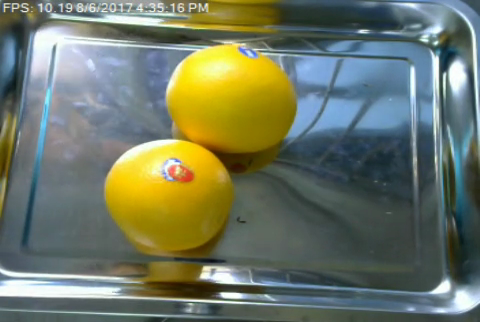Orange: (103, 138, 232, 250), (165, 44, 297, 152)
